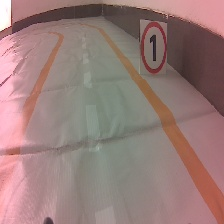limit: (136, 17, 170, 79)
